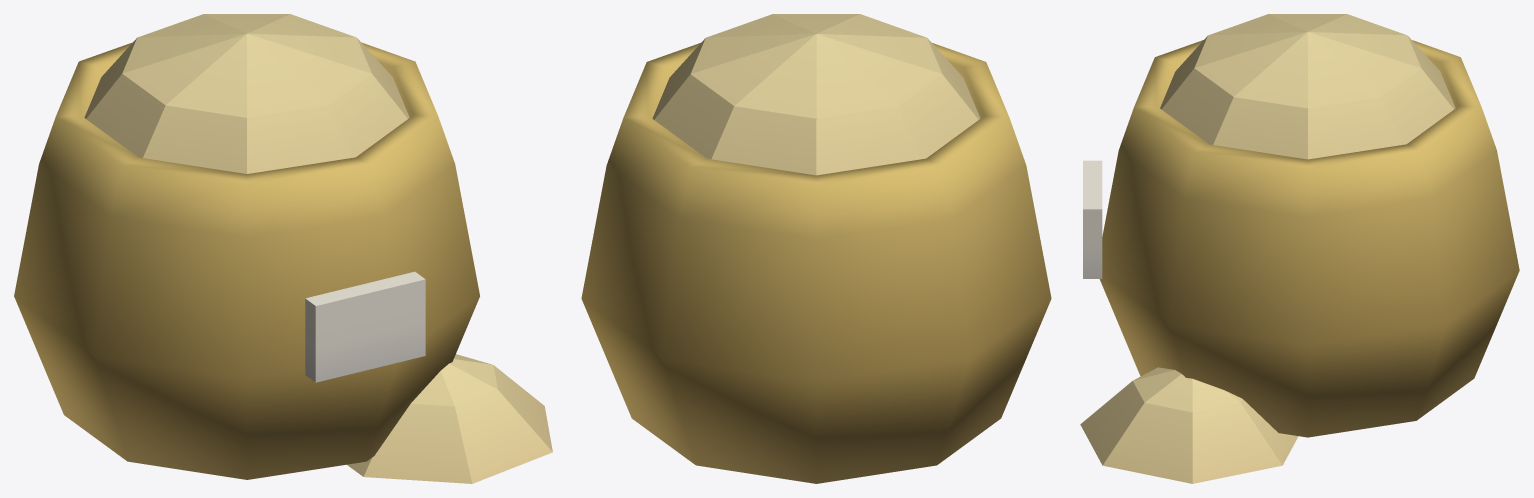
Rendered from item_sand.glb.
3 views of the same model, side by side, from view 1: azimuth 30°, elevation 25°; view 2: azimuth 150°, elevation 25°; view 3: azimuth 270°, elevation 25° (orthographic). The views are drawn at different scales.
Visible parts, largest first — view 1: item_sand; view 2: item_sand; view 3: item_sand.
Boxes of the visible parts, x1=… form: item_sand: x1=14, y1=14, x2=552, y2=483; item_sand: x1=581, y1=14, x2=1051, y2=483; item_sand: x1=1080, y1=14, x2=1519, y2=483.
Size of the model in its own units: 1.17 by 1 by 1.14.
Materials: 1 (1 with a texture image).
